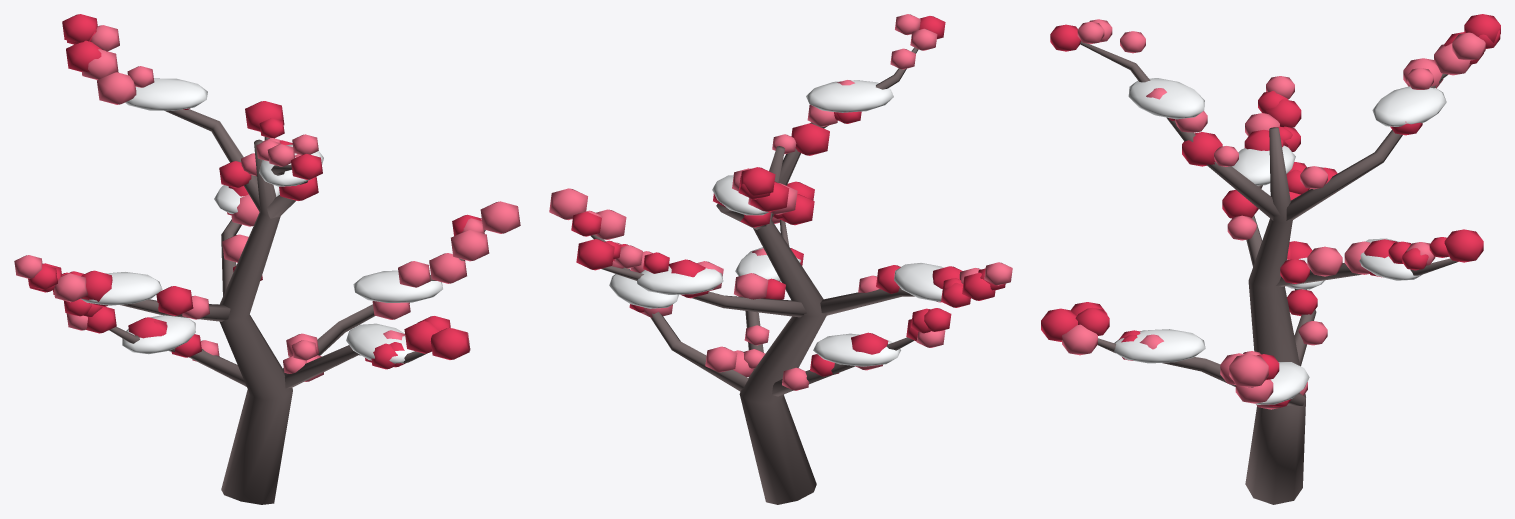
The model's file is plum_a.glb.
3 renders of one model, left to right at view 1: azimuth 30°, elevation 25°; view 2: azimuth 150°, elevation 25°; view 3: azimuth 270°, elevation 25°, orthographic. The views are drawn at different scales.
Parts seen in each view (by area): view 1: Trunk, Snow2, Snow0, Snow4, Snow3, Snow6, Branch2, Branch6, Bloom.005, Branch3, Bloom.021, Bloom.064 (+25 smaller); view 2: Trunk, Snow5, Branch1, Snow1, Snow3, Branch0, Snow4, Snow0, Branch4, Snow2, Bloom.058, Bloom.014 (+17 smaller); view 3: Trunk, Snow5, Snow6, Snow2, Branch2, Branch5, Snow4, Snow0, Bloom.005, Bloom.014, Bloom.058, Snow1 (+21 smaller).
Part boxes in pixels (x1,y1,x2,y2): Trunk: [219, 139, 292, 504]; Snow2: [125, 78, 207, 110]; Snow0: [353, 270, 442, 302]; Snow4: [80, 272, 162, 305]; Snow3: [122, 315, 195, 354]; Snow6: [346, 323, 414, 363]; Branch2: [164, 109, 260, 211]; Branch6: [284, 345, 426, 388]; Bloom.005: [480, 201, 520, 233]; Branch3: [109, 326, 246, 386]; Bloom.021: [97, 72, 136, 104]; Bloom.064: [430, 328, 469, 359]; Trunk: [739, 146, 827, 504]; Snow5: [806, 80, 893, 112]; Branch1: [601, 266, 806, 317]; Snow1: [637, 263, 723, 294]; Snow3: [813, 333, 900, 366]; Branch0: [590, 234, 748, 391]; Snow4: [894, 263, 943, 301]; Snow0: [609, 274, 678, 308]; Branch4: [820, 288, 914, 315]; Snow2: [712, 175, 768, 215]; Bloom.058: [791, 123, 829, 155]; Bloom.014: [576, 239, 614, 270]; Trunk: [1245, 127, 1305, 504]; Snow5: [1128, 78, 1204, 119]; Snow6: [1114, 329, 1205, 363]; Snow2: [1372, 86, 1446, 126]; Branch2: [1286, 73, 1447, 220]; Branch5: [1080, 41, 1283, 220]; Snow4: [1232, 145, 1295, 185]; Snow0: [1255, 362, 1309, 404]; Bloom.005: [1229, 354, 1268, 387]; Bloom.014: [1444, 229, 1483, 262]; Bloom.058: [1182, 132, 1222, 166]; Snow1: [1359, 238, 1422, 280].
Size of the model in its own units: 3.62 by 3.14 by 2.87.
